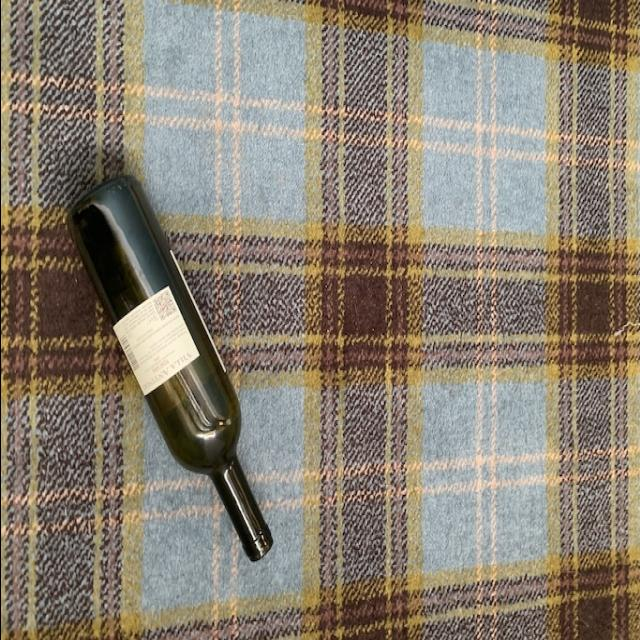litter: (64, 164, 276, 572)
